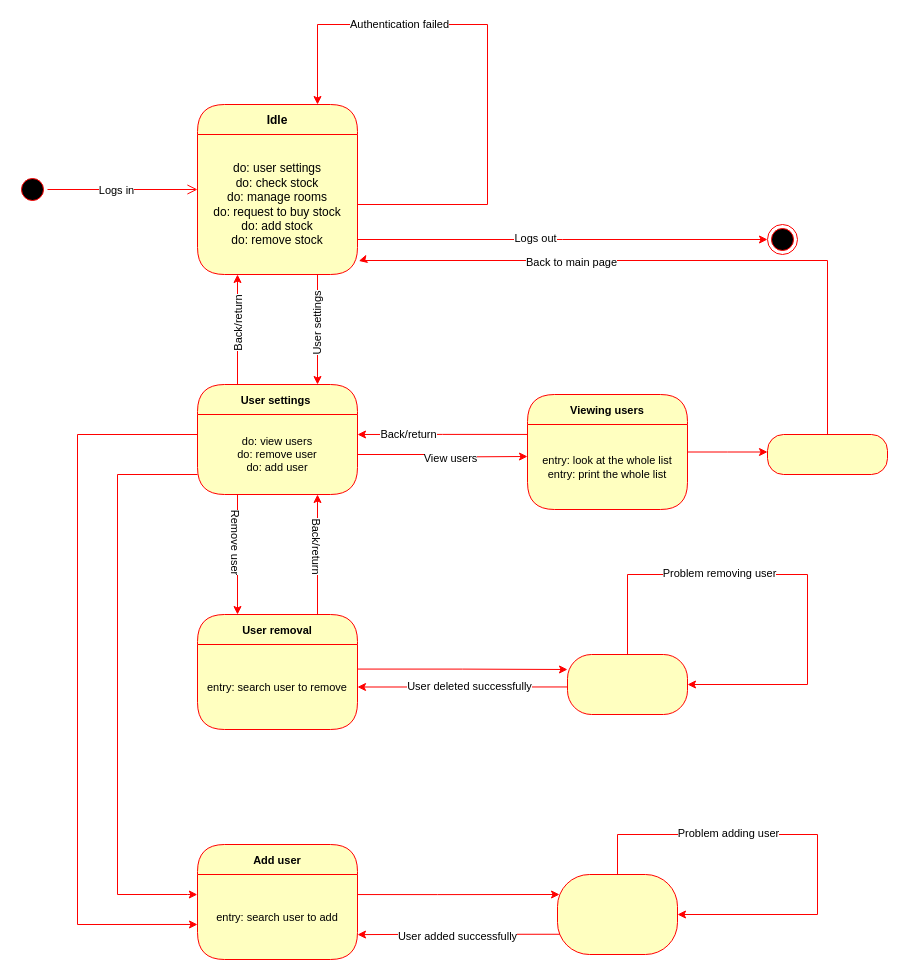
Some shapes in this 905 by 977 pixel diagram are drawn without their labels. Here are the shapes that lost their labels. From the top down, the centre of each, then its label:
the point at 827,454: Prints the whole list
the point at 627,684: User removed
the point at 617,914: User added
